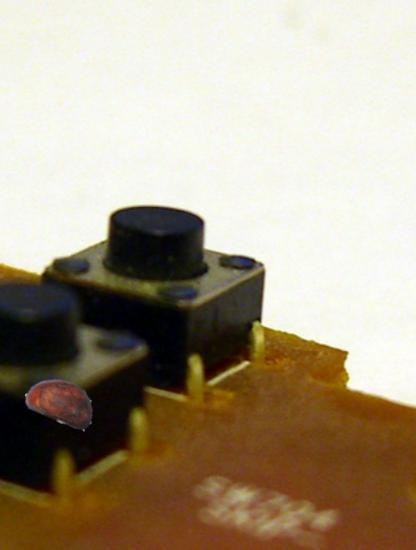Chestnut: (26, 365, 99, 438)
